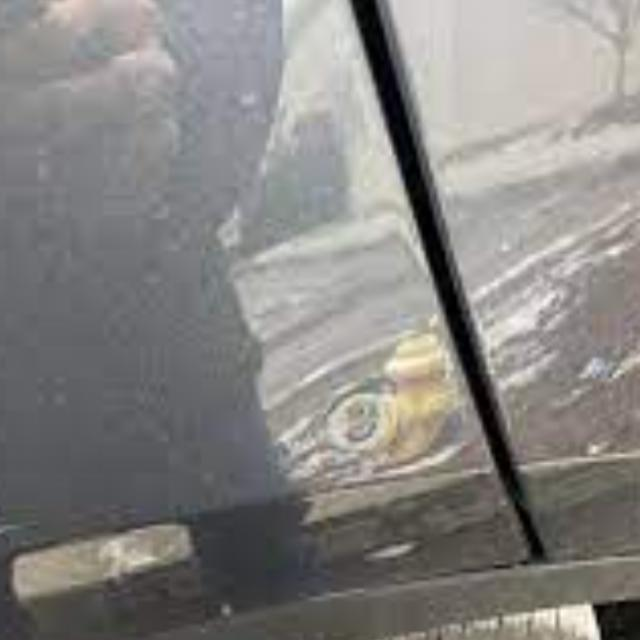dents: (298, 372, 469, 470)
